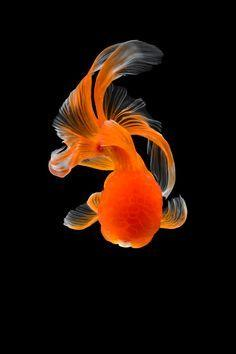goldfish: (50, 108, 192, 255)
